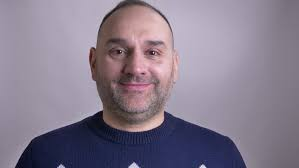white_male: (92, 4, 186, 130)
